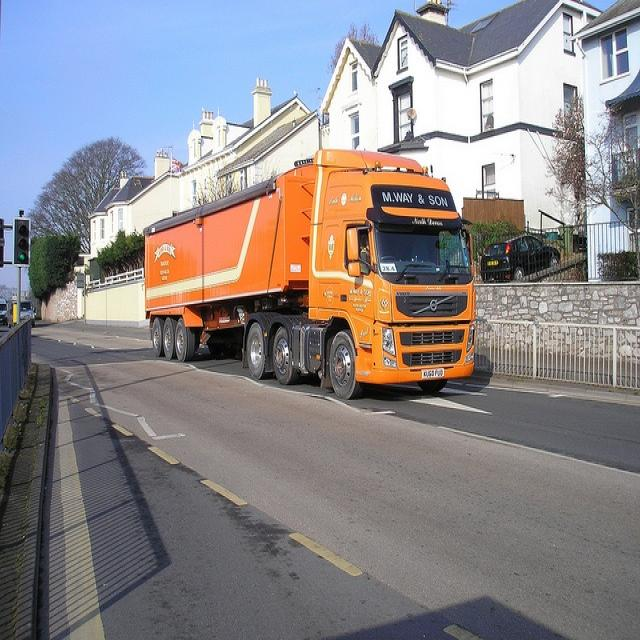car: (478, 234, 558, 282), (18, 300, 35, 325)
pole: (16, 264, 20, 303)
truck: (142, 148, 474, 397)
